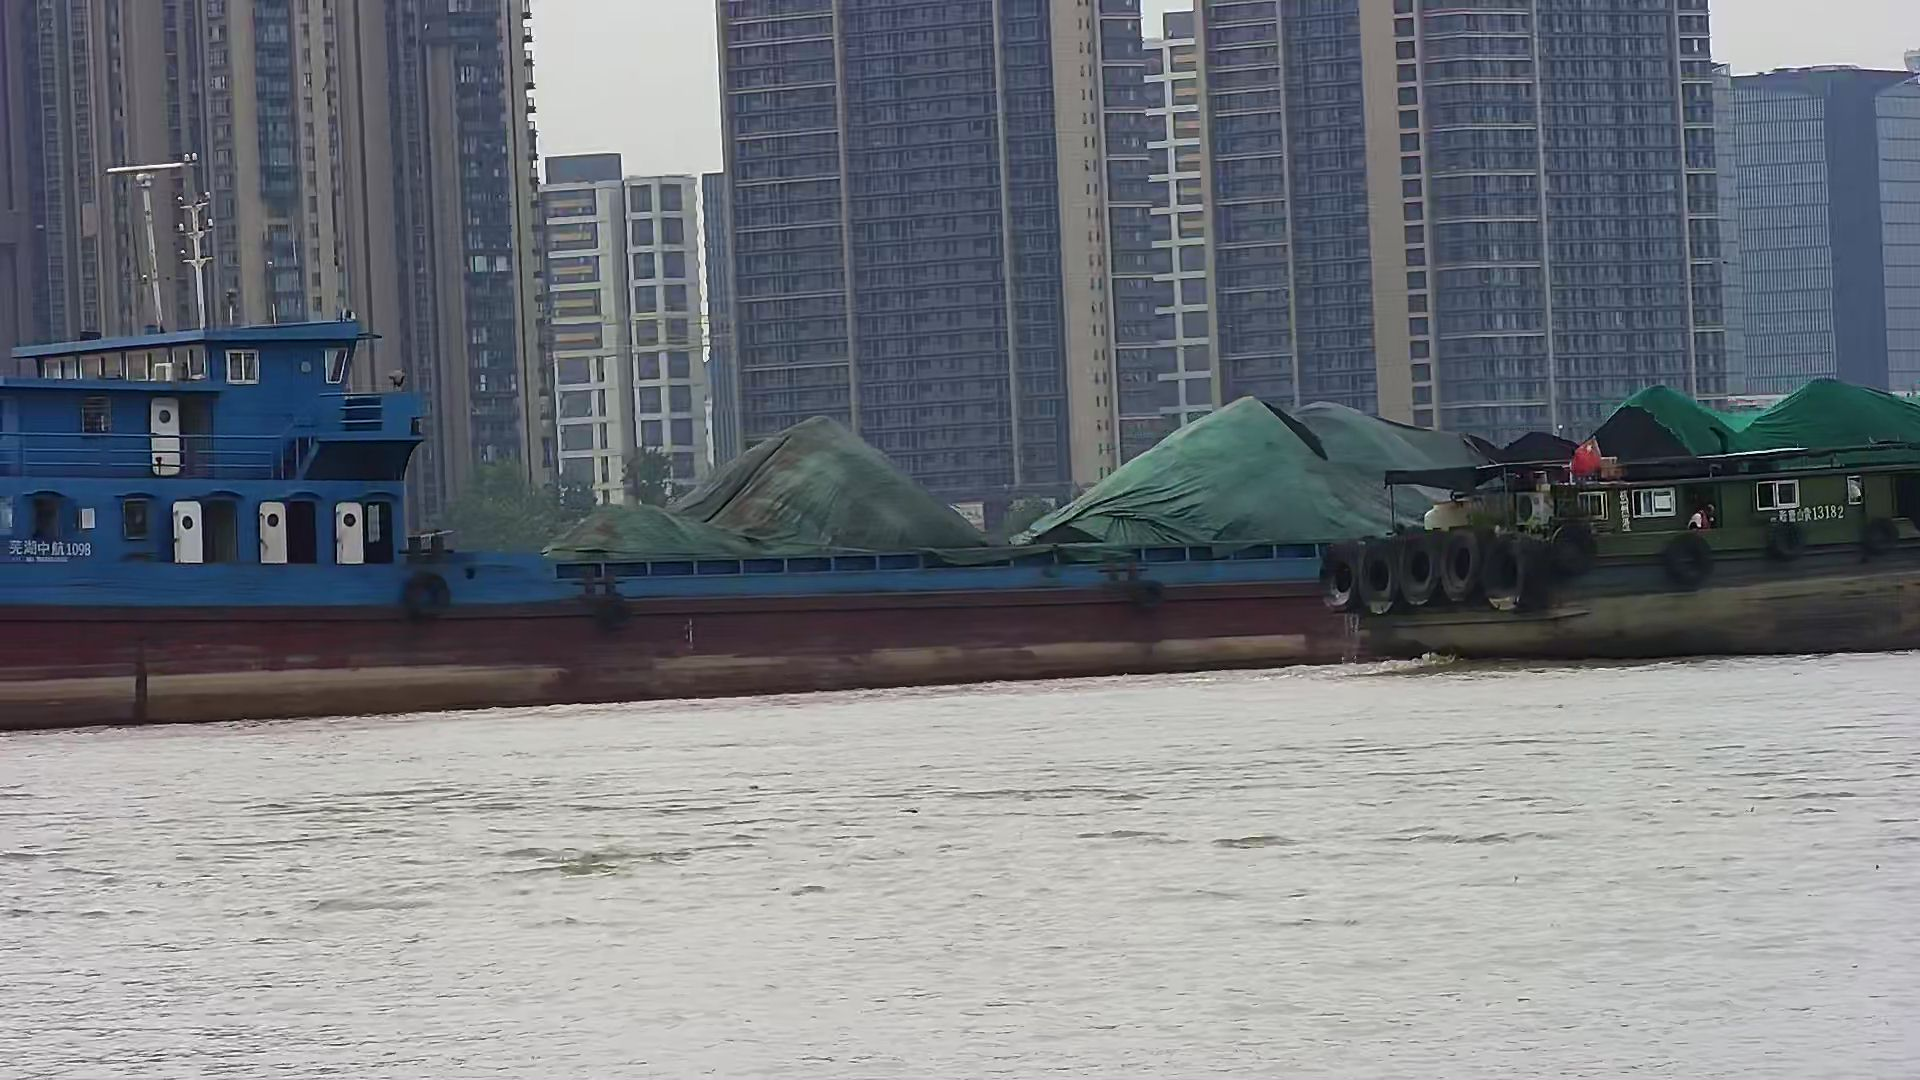ship: (1, 322, 1920, 735), (1292, 359, 1920, 673)
